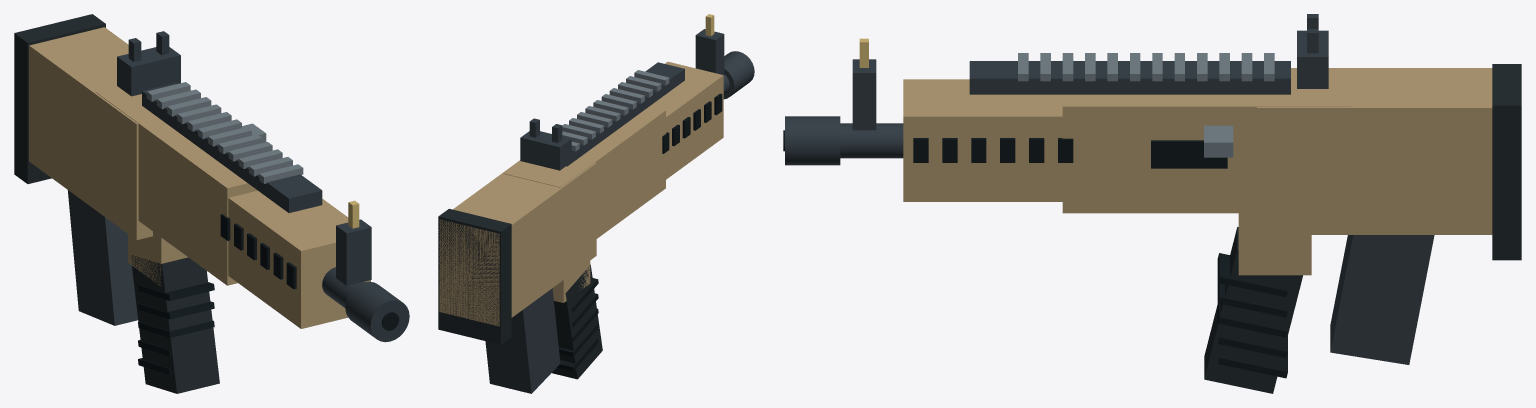
Rendered from ar_02_kestrel.glb.
The picture shows the model from 3 angles, left to right: view 1: azimuth 30°, elevation 25°; view 2: azimuth 150°, elevation 25°; view 3: azimuth 270°, elevation 25°; orthographic projection. The views are drawn at different scales.
Visible parts, largest first — view 1: rear_chassis, receiver, handguard, grip, bullpup_magazine, buttpad, upper_rail, muzzle_device, rear_sight_base, front_sight_base, grip_tang, barrel (+15 smaller); view 2: rear_chassis, receiver, buttpad, bullpup_magazine, handguard, grip, upper_rail, rear_sight_base, front_sight_base, muzzle_device, grip_tang, rail_tooth_6 (+10 smaller); view 3: rear_chassis, receiver, handguard, bullpup_magazine, upper_rail, grip, buttpad, grip_tang, muzzle_device, barrel, ejection_port, front_sight_base (+5 smaller).
Boxes of the visible parts, box(x1,y1,x2,y2) form: rear_chassis: box(29, 27, 152, 239); receiver: box(95, 86, 257, 285); handguard: box(228, 190, 370, 328); grip: box(131, 255, 219, 393); bullpup_magazine: box(67, 190, 137, 325); buttpad: box(14, 14, 105, 183); upper_rail: box(142, 83, 322, 212); muzzle_device: box(345, 281, 409, 342); rear_sight_base: box(117, 47, 180, 96); front_sight_base: box(336, 219, 371, 285); grip_tang: box(128, 231, 187, 286); barrel: box(322, 267, 363, 307); rear_chassis: box(439, 160, 596, 326); receiver: box(503, 106, 665, 238); buttpad: box(438, 208, 511, 344); bullpup_magazine: box(485, 288, 560, 393); handguard: box(650, 61, 723, 179); grip: box(552, 264, 602, 379); upper_rail: box(566, 62, 684, 166); rear_sight_base: box(520, 131, 571, 170); front_sight_base: box(695, 29, 724, 75); muzzle_device: box(723, 51, 754, 99); grip_tang: box(552, 261, 590, 302); rail_tooth_6: box(593, 100, 628, 115); rear_chassis: box(1257, 68, 1492, 234); receiver: box(1062, 68, 1350, 213); handguard: box(903, 79, 1062, 201); bullpup_magazine: box(1330, 235, 1434, 364); upper_rail: box(969, 61, 1290, 94); grip: box(1204, 227, 1302, 393); buttpad: box(1492, 64, 1521, 260); grip_tang: box(1238, 213, 1311, 275); muzzle_device: box(785, 116, 840, 165); barrel: box(840, 123, 903, 158); ejection_port: box(1151, 140, 1227, 168); front_sight_base: box(852, 59, 876, 130).
Bounding box in the file's own units: 0.1145 × 0.3366 × 0.6275.
